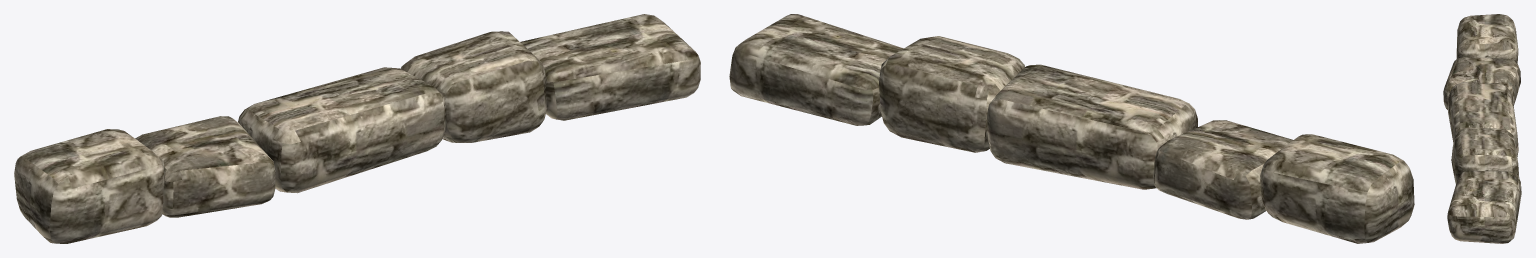
File: infra_boundary_t1_stones.glb
The picture shows the model from 3 angles, left to right: view 1: azimuth 30°, elevation 25°; view 2: azimuth 150°, elevation 25°; view 3: azimuth 270°, elevation 25°; orthographic projection. The views are drawn at different scales.
Visible parts, largest first — view 1: stone.005; view 2: stone.005; view 3: stone.005.
Boxes of the visible parts, <box> form: stone.005: <box>14,14,700,243</box>; stone.005: <box>729,14,1414,243</box>; stone.005: <box>1443,14,1521,243</box>.
Size of the model in its own units: 2.09 by 0.2419 by 0.3556.
1 material, 1 textured.
